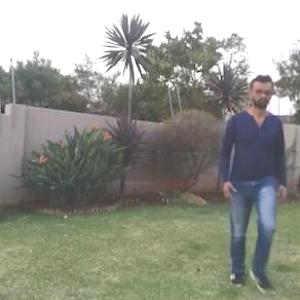follow: (226, 78, 283, 275)
